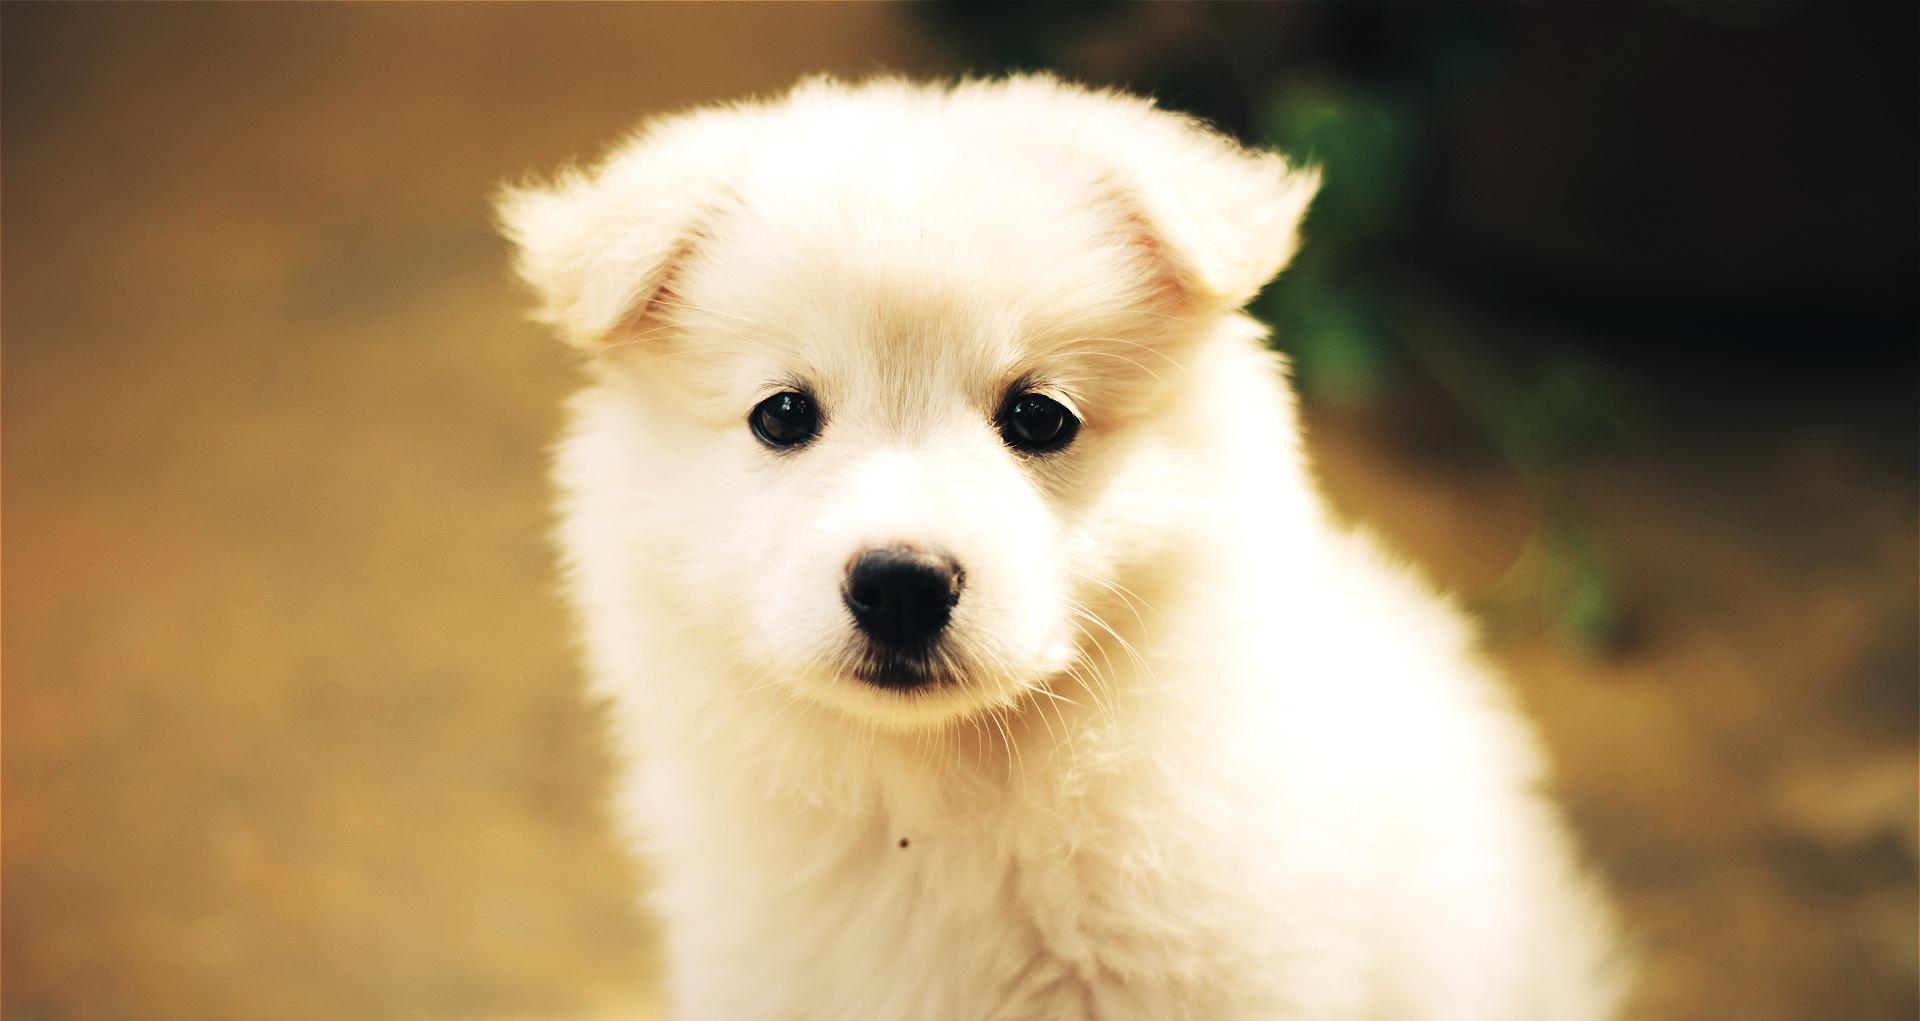dog: (488, 60, 1618, 1021)
